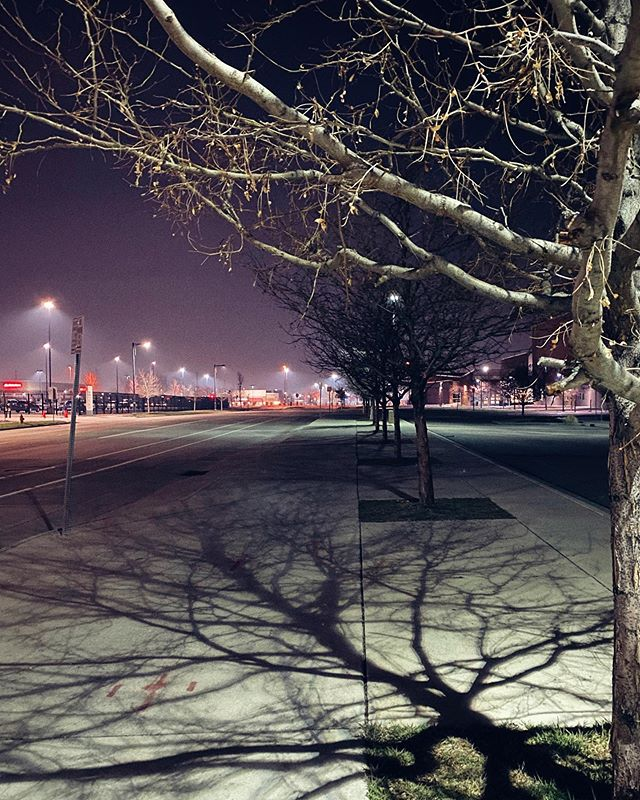sidewalk: (8, 416, 634, 785)
sky: (1, 1, 333, 371)
street: (1, 405, 300, 554)
tree: (14, 2, 640, 800), (269, 210, 534, 520)
